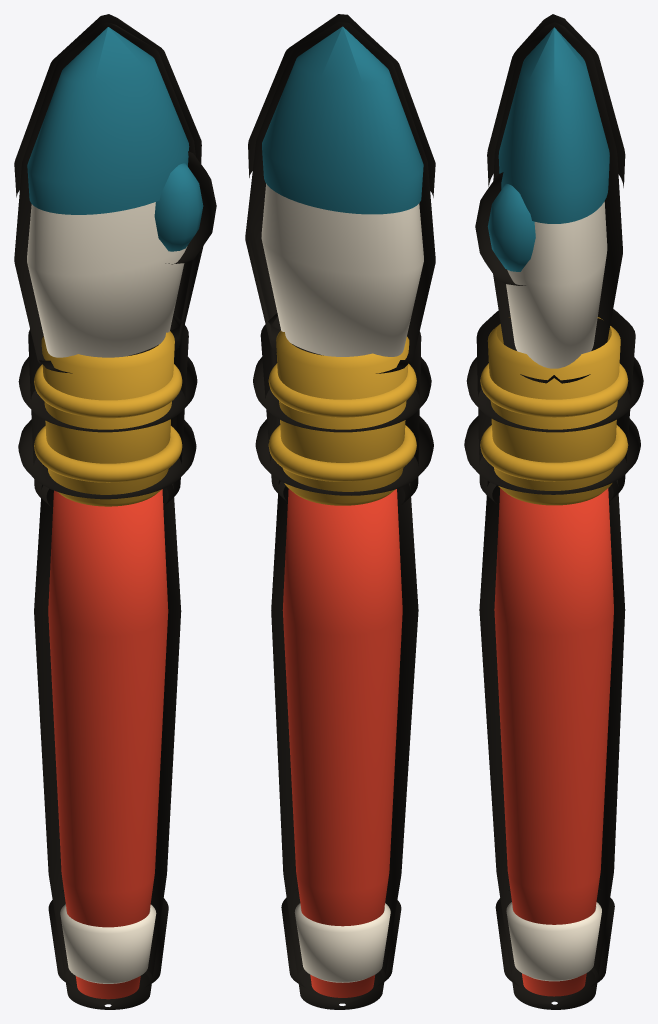
Rendered from paintbrush.glb.
3 views of the same model, side by side, from view 1: azimuth 30°, elevation 25°; view 2: azimuth 150°, elevation 25°; view 3: azimuth 270°, elevation 25° (orthographic).
Visible parts, largest first — view 1: Paintbrush, Paintbrush_outline; view 2: Paintbrush, Paintbrush_outline; view 3: Paintbrush, Paintbrush_outline.
Part boxes in pixels (bbox=[...]): Paintbrush: bbox=[27, 27, 203, 999]; Paintbrush_outline: bbox=[14, 14, 216, 1009]; Paintbrush: bbox=[261, 26, 423, 997]; Paintbrush_outline: bbox=[245, 14, 435, 1009]; Paintbrush: bbox=[480, 27, 628, 996]; Paintbrush_outline: bbox=[464, 14, 643, 1009].
Size of the model in its own units: 0.4634 by 2.45 by 0.4048.
